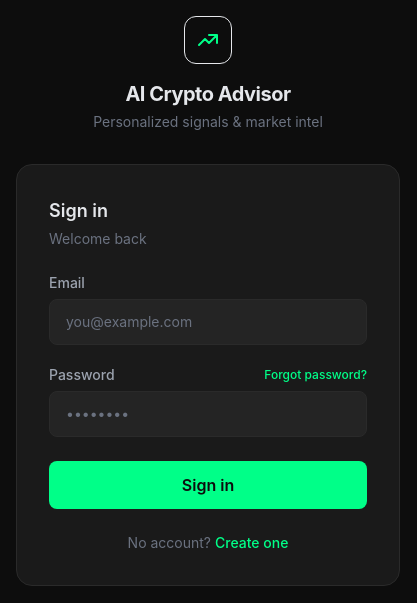
it: clicking "Forgot password?" switches to the reset view
Click the button "Forgot password?" at (316, 375), box [264,367,367,383]
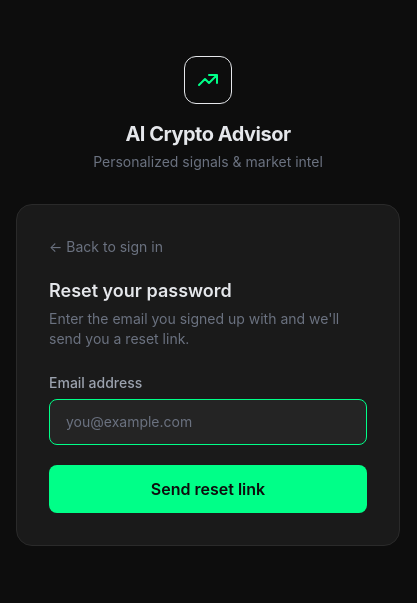
Check: the heading "Reset your password" is shown, box [49,280,232,301]
Check: the button "Send reset link" is shown, box [49,465,367,513]
